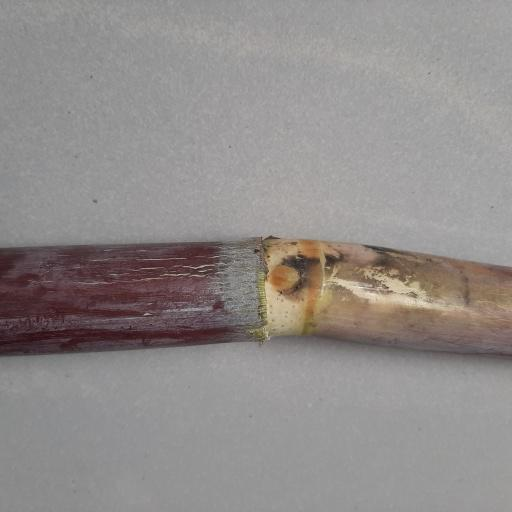Bud: (269, 259, 300, 296)
